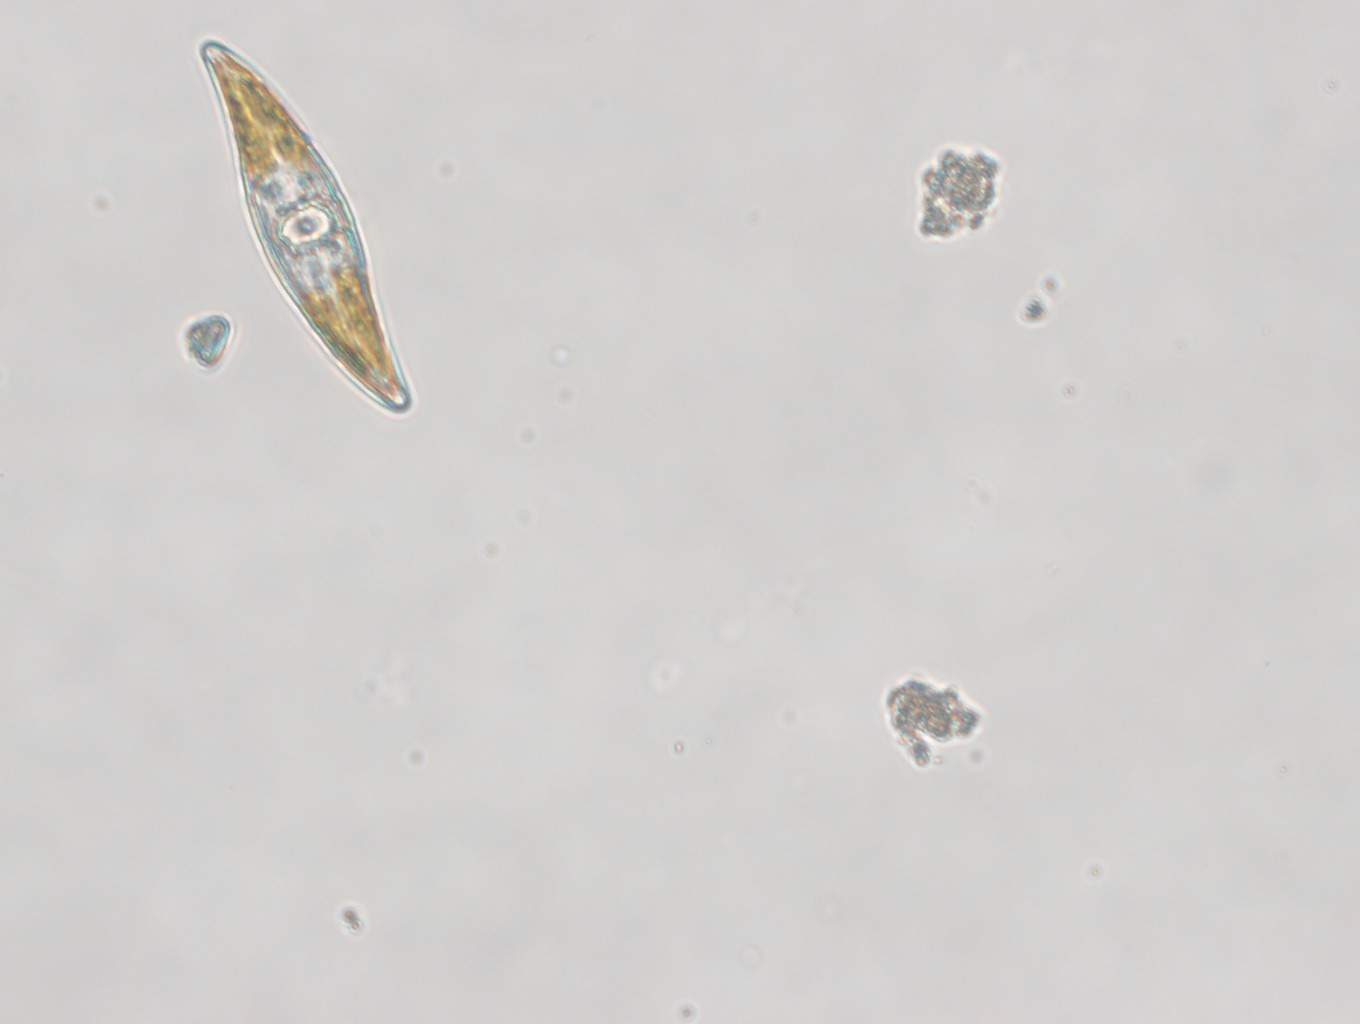navicula: (199, 35, 413, 421)
